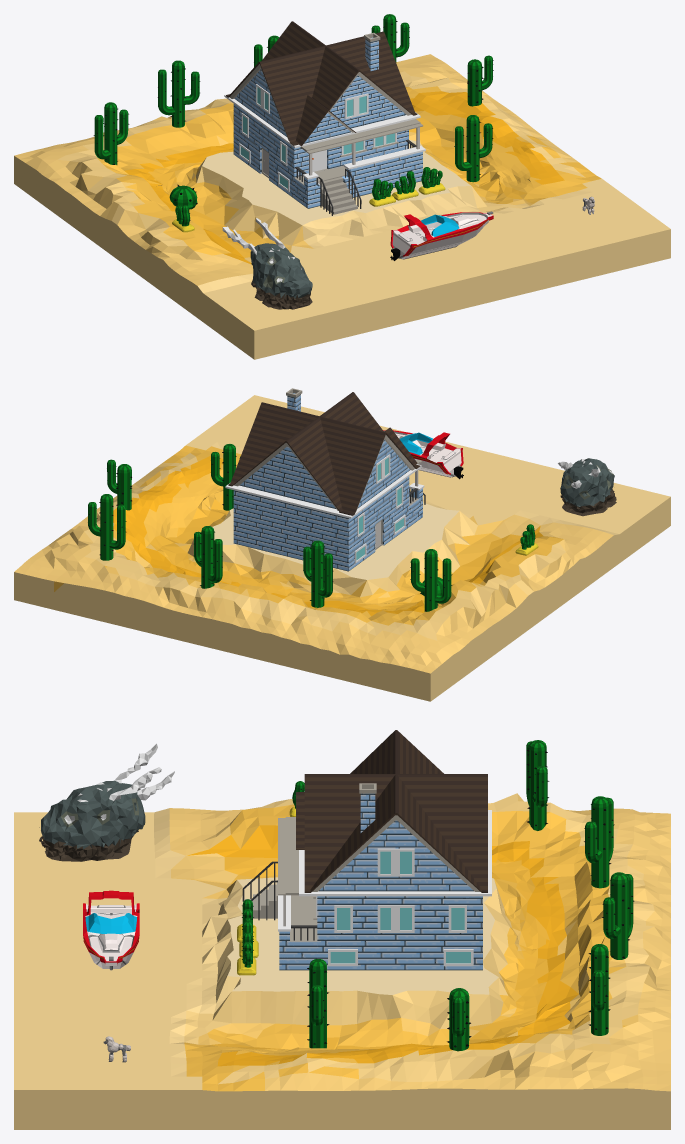
3 renders of one model, top to bottom at view 1: azimuth 30°, elevation 25°; view 2: azimuth 150°, elevation 25°; view 3: azimuth 270°, elevation 25°, orthographic. The views are drawn at different scales.
Parts seen in each view (by area): view 1: Cube.001, Cube.547, OBJRANDOM_METEORITE, VEHICLES_BOAT, Cylinder.037, Cylinder.044, Cylinder.045, Cylinder.038, Cylinder.042, Cylinder.039, Cylinder.041, Sphere.023 (+1 smaller); view 2: Cube.001, Cube.547, OBJRANDOM_METEORITE, VEHICLES_BOAT, Cylinder.042, Cylinder.045, Cylinder.044, Cylinder.043, Cylinder.037, Cylinder.038; view 3: Cube.001, Cube.547, OBJRANDOM_METEORITE, VEHICLES_BOAT, Cylinder.043, Cylinder.044, Cylinder.045, Cylinder.042, Cylinder.037, Cylinder.038, Cylinder.041.
Boxes of the visible parts, <box> form: Cube.001: <box>14,54,670,359</box>; Cube.547: <box>224,21,425,215</box>; OBJRANDOM_METEORITE: <box>222,218,312,309</box>; VEHICLES_BOAT: <box>390,211,493,260</box>; Cylinder.037: <box>454,115,493,182</box>; Cylinder.044: <box>157,60,200,127</box>; Cylinder.045: <box>93,102,129,164</box>; Cylinder.038: <box>467,55,493,106</box>; Cylinder.042: <box>371,14,409,62</box>; Cylinder.039: <box>369,179,395,206</box>; Cylinder.041: <box>418,167,445,194</box>; Sphere.023: <box>169,184,197,209</box>; Cube.001: <box>14,395,670,701</box>; Cube.547: <box>225,388,425,571</box>; OBJRANDOM_METEORITE: <box>558,458,616,516</box>; VEHICLES_BOAT: <box>383,430,463,479</box>; Cylinder.042: <box>88,494,126,560</box>; Cylinder.045: <box>410,549,452,611</box>; Cylinder.044: <box>303,540,333,607</box>; Cylinder.043: <box>193,526,222,588</box>; Cylinder.037: <box>211,444,240,510</box>; Cylinder.038: <box>107,459,131,510</box>; Cube.001: <box>14,793,670,1129</box>; Cube.547: <box>242,730,491,970</box>; OBJRANDOM_METEORITE: <box>39,743,174,861</box>; VEHICLES_BOAT: <box>83,890,139,970</box>; Cylinder.043: <box>602,872,634,959</box>; Cylinder.044: <box>584,796,614,888</box>; Cylinder.045: <box>526,740,549,830</box>; Cylinder.042: <box>588,944,610,1035</box>; Cylinder.037: <box>307,959,329,1048</box>; Cylinder.038: <box>447,988,471,1051</box>; Cylinder.041: <box>237,932,256,975</box>.
Bounding box in the file's own units: 4002 × 1605 × 4001.
Materials: 30 (3 with a texture image).
